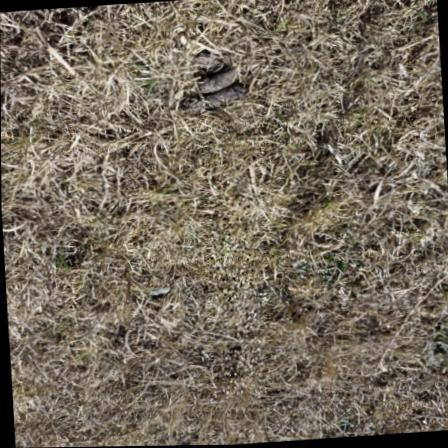dog-poop: (152, 49, 252, 127)
